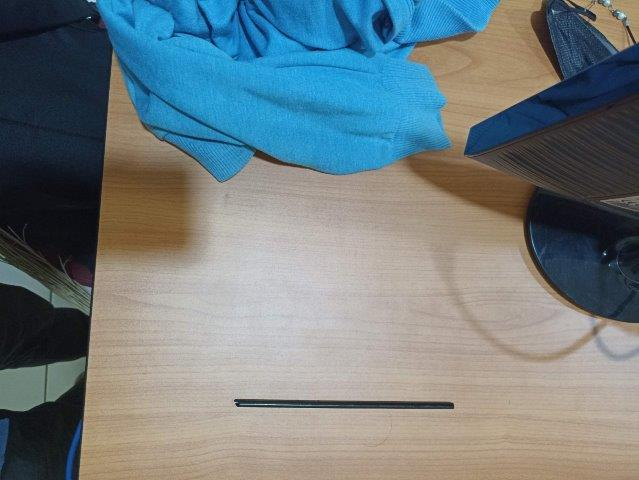sedotan: (234, 399, 454, 409)
